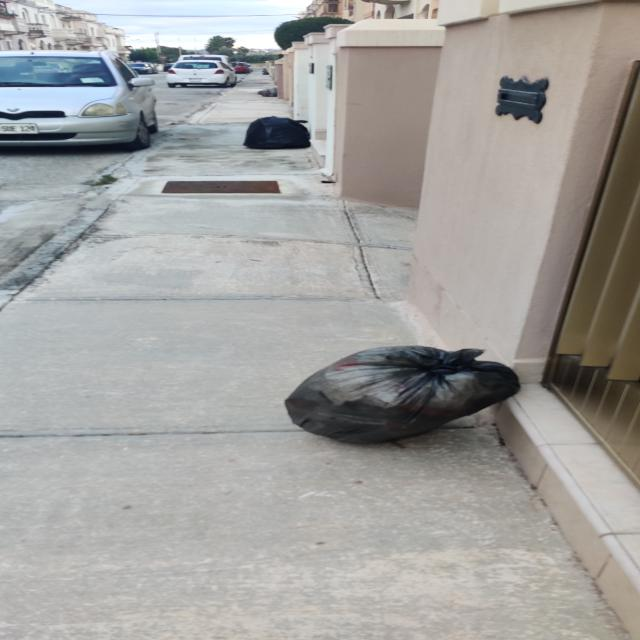Mixed Waste -Black Bags-: (282, 346, 519, 446), (242, 114, 314, 151), (258, 88, 278, 97), (263, 69, 269, 75)
